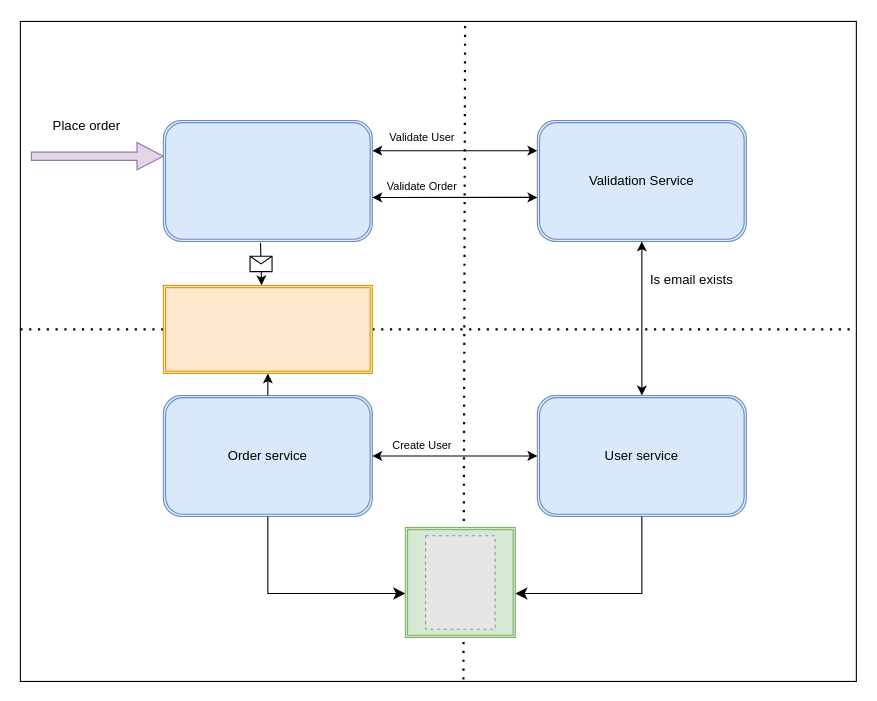
This 877x701 diagram has some shape labels left out. Grey dashed boxes stand in for pictures. The centre of each missing label's shape, as x and y in pixels:
"API Gateway" belongs at pixel 267 180.
"RabbitMQ" belongs at pixel 267 328.
